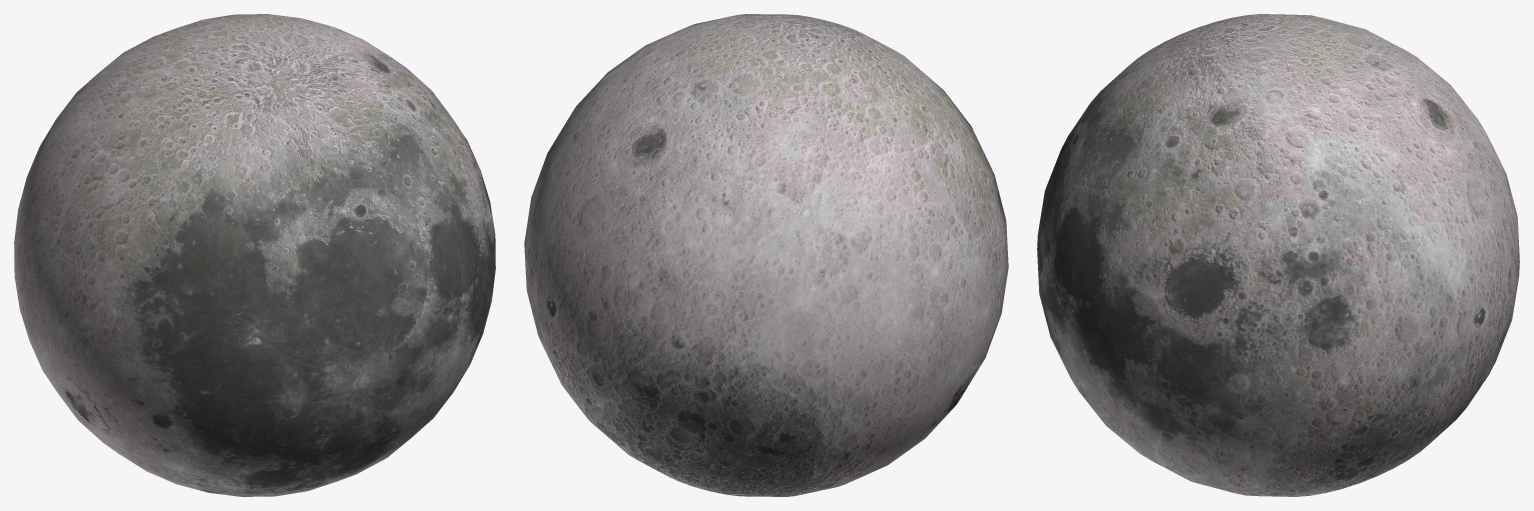
Rendered from Moon.dae.
3 views of the same model, side by side, from view 1: azimuth 30°, elevation 25°; view 2: azimuth 150°, elevation 25°; view 3: azimuth 270°, elevation 25° (orthographic).
Parts seen in each view (by area): view 1: Moon; view 2: Moon; view 3: Moon.
Part boxes in pixels (<box>): Moon: <box>14,14,495,496</box>; Moon: <box>524,14,1008,496</box>; Moon: <box>1037,14,1519,496</box>.
Bounding box in the file's own units: 0.7428 × 0.7454 × 0.7478.
1 material, 1 textured.
